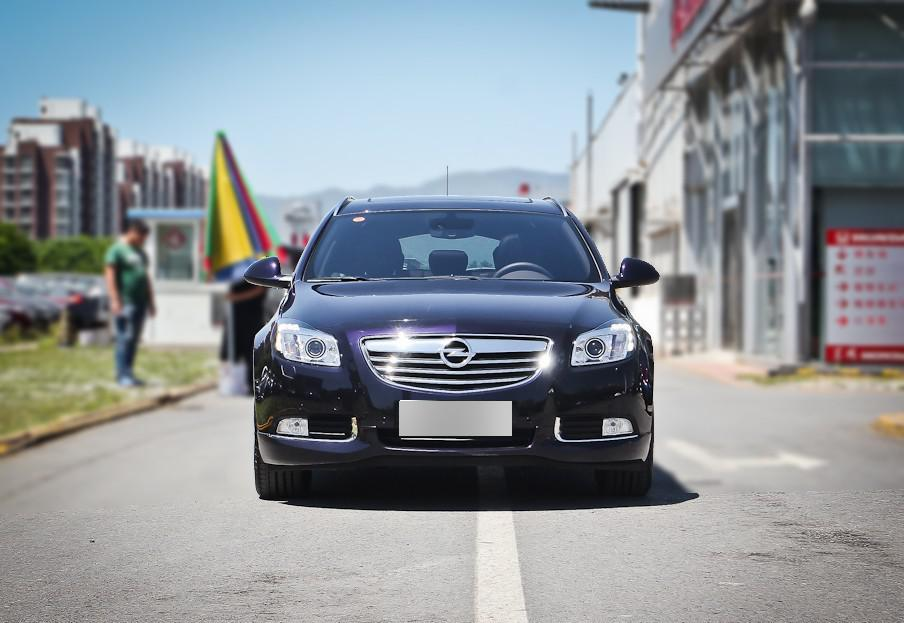Wagon: (244, 197, 661, 496)
